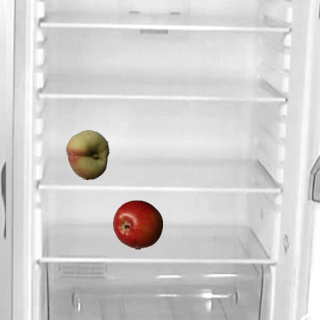Apple Braeburn: (112, 199, 162, 249)
Peach Flat: (62, 129, 112, 179)
